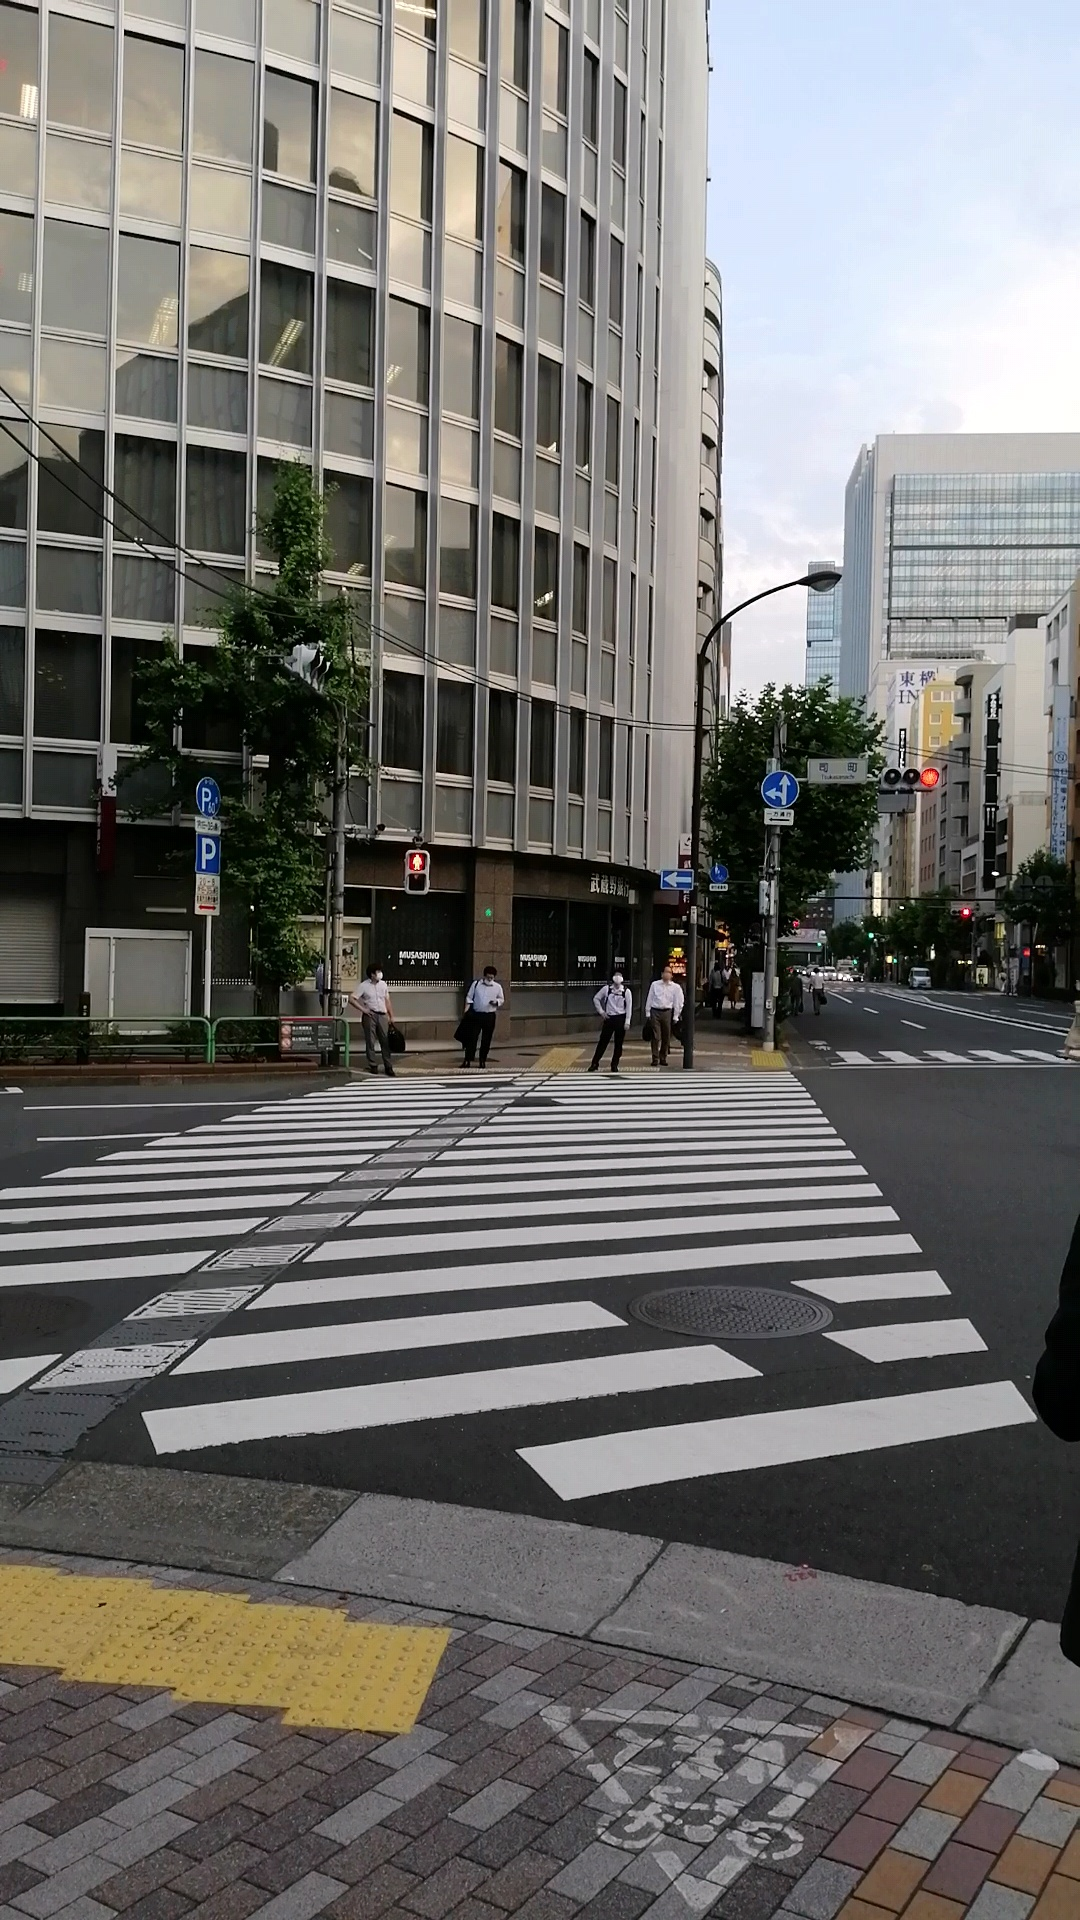red: (404, 849, 429, 895)
